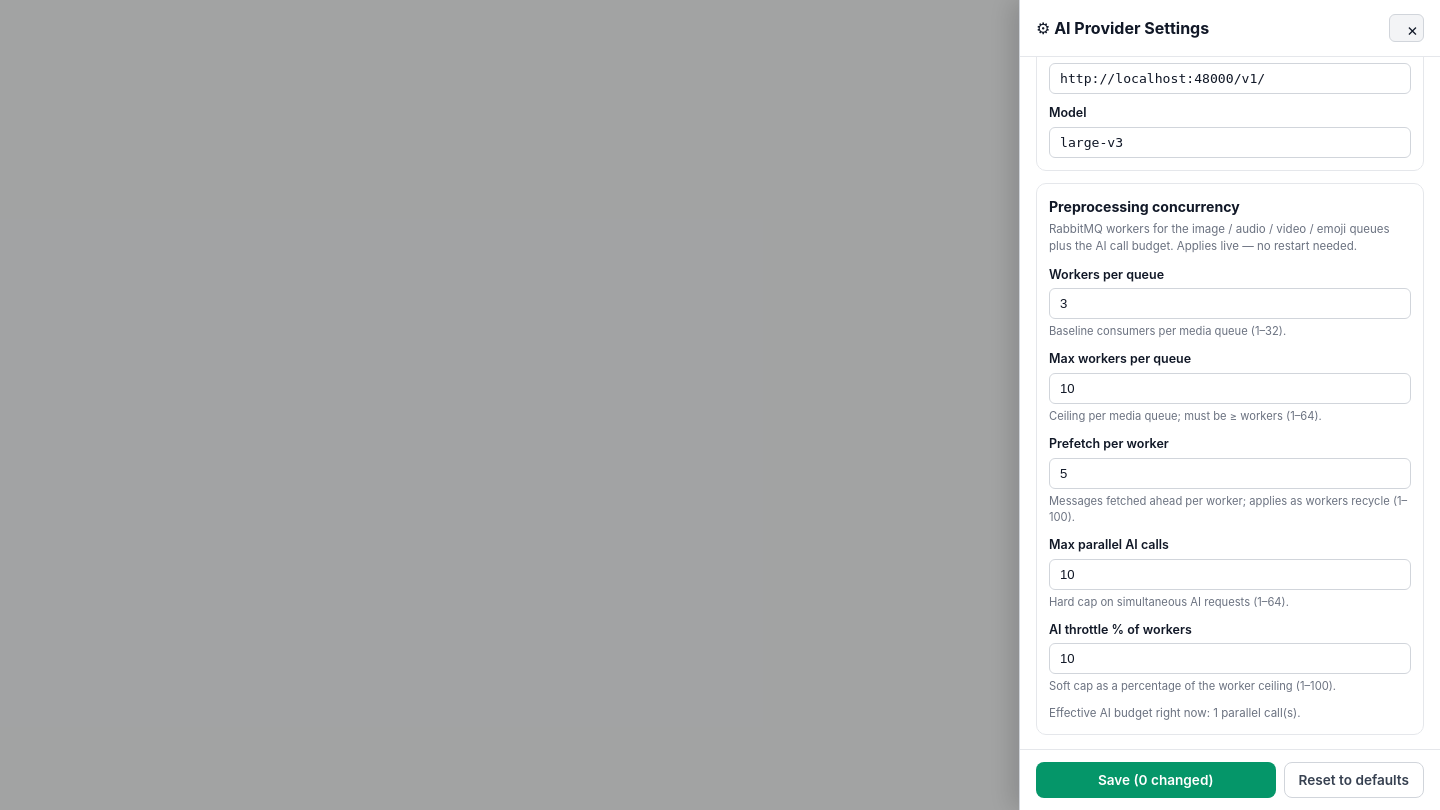
Test case: SettingsSidebar › shows the effective AI budget preview and updates it with the draft
(page scrolled)
Expected: the text "Effective AI budget right now: 1 parallel call(s)." is shown, [1049, 706, 1300, 720]
Replace the text in the number field labelled "AI throttle % of workers" with "100" at coordinates (1230, 659), box [1049, 643, 1411, 674]
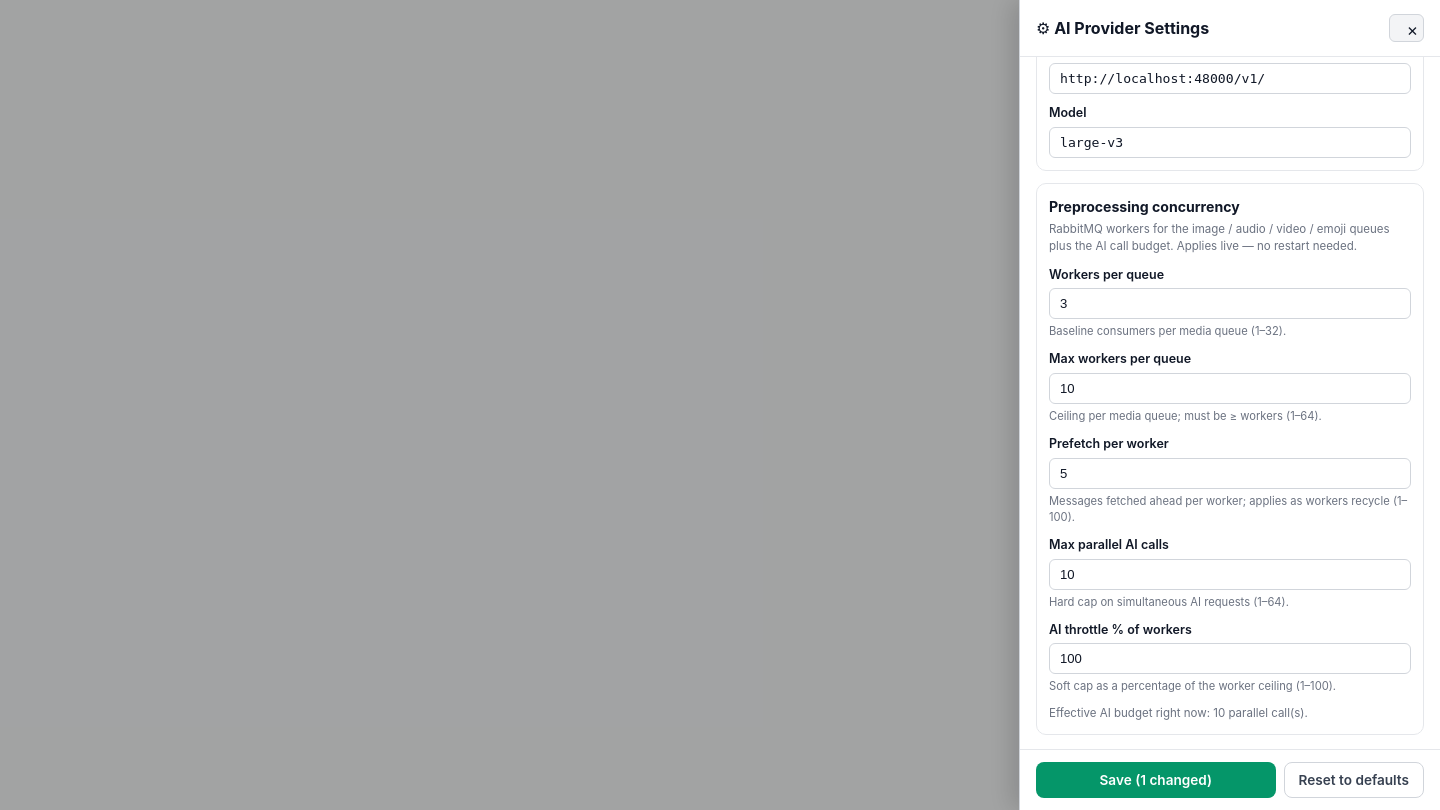
Expected: the text "Effective AI budget right now: 10 parallel call(s)." is shown, [1049, 706, 1308, 720]
